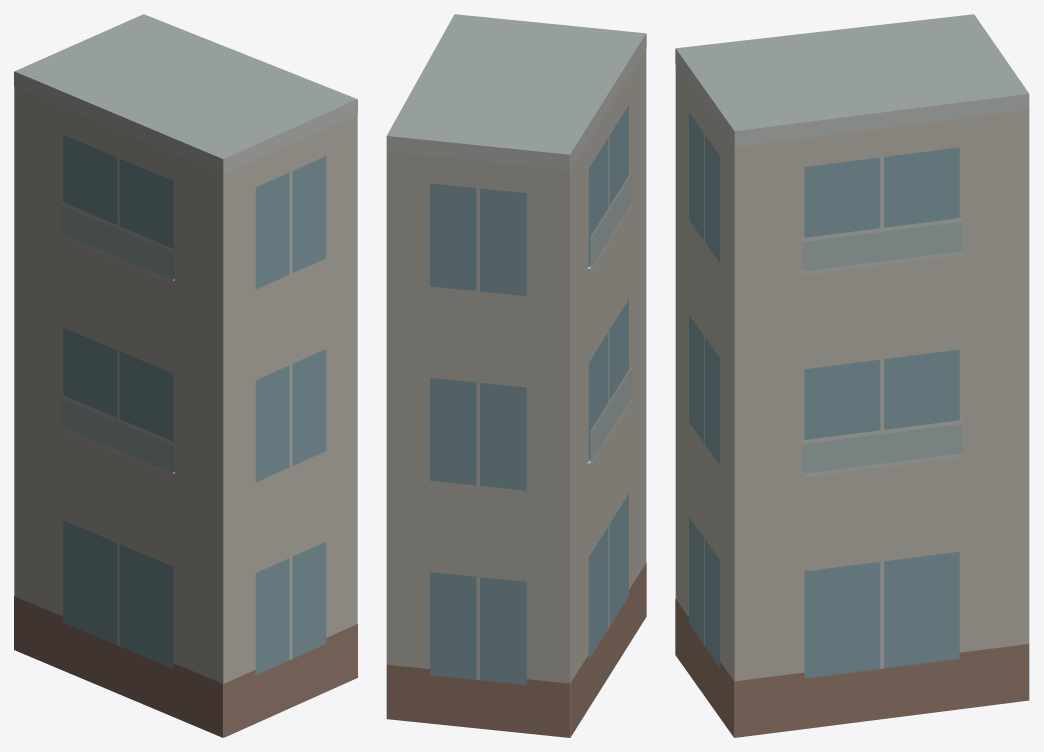
The model's file is survey-upis-32659560.glb.
The picture shows the model from 3 angles, left to right: view 1: azimuth 30°, elevation 25°; view 2: azimuth 150°, elevation 25°; view 3: azimuth 270°, elevation 25°; orthographic projection. The views are drawn at different scales.
Parts seen in each view (by area): view 1: survey-upis-32659560.tmp; view 2: survey-upis-32659560.tmp; view 3: survey-upis-32659560.tmp.
Part boxes in pixels (left/top/right/bottom): survey-upis-32659560.tmp: left=14, top=14, right=357, bottom=737; survey-upis-32659560.tmp: left=386, top=14, right=646, bottom=737; survey-upis-32659560.tmp: left=675, top=14, right=1029, bottom=737.
Bounding box in the file's own units: 3.8 × 9.15 × 4.85.
